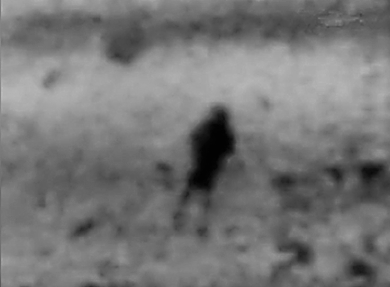man: (171, 103, 237, 241)
